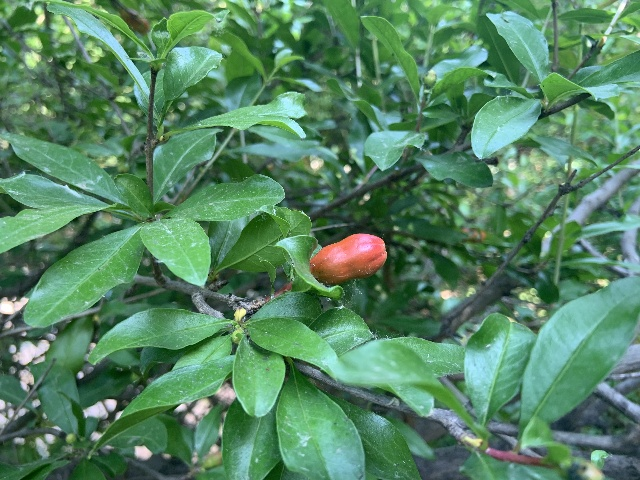bud: (310, 232, 386, 284)
